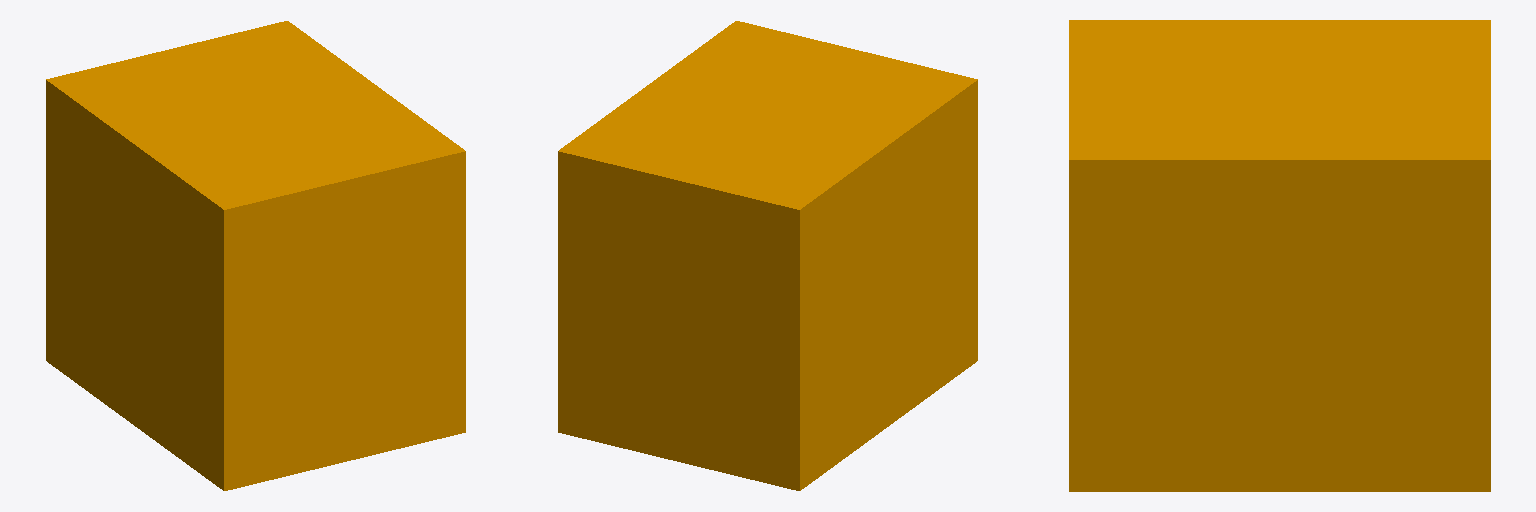
URDF robot description (object):
<robot name="object">
  <link name="object">
    <visual>
      <origin xyz="0 0 0" />
      <geometry>
        <box size="0.07200000000000001 0.09200000000000003 0.08" />
      </geometry>
    </visual>

    <collision>
      <origin xyz="0 0 0" />
      <geometry>
        <box size="0.07200000000000001 0.09200000000000003 0.08" />
      </geometry>
    </collision>

    <inertial>
      <mass value="0.05" />
      <inertia ixx="0.0001" ixy="0.0" ixz="0.0" iyy="0.0001" iyz="0.0" izz="0.0001" />
    </inertial>
  </link>
</robot>

--- What the picture shows (computed from the rendered views, not written in the file) ---
The picture shows the robot from 3 angles, left to right: view 1: azimuth 30°, elevation 25°; view 2: azimuth 150°, elevation 25°; view 3: azimuth 270°, elevation 25°; orthographic projection.
Model object with 1 links and 0 joints (none), rooted at object, posed every joint at zero.
Visible links, largest first — view 1: object; view 2: object; view 3: object.
Link boxes in pixels (<box>): object: <box>46,21,465,490</box>; object: <box>558,21,977,490</box>; object: <box>1069,20,1490,491</box>.
Size in the robot's own frame: 0.072 by 0.092 by 0.08 metres.
Geometry: primitives only (box / cylinder / sphere), no mesh files.